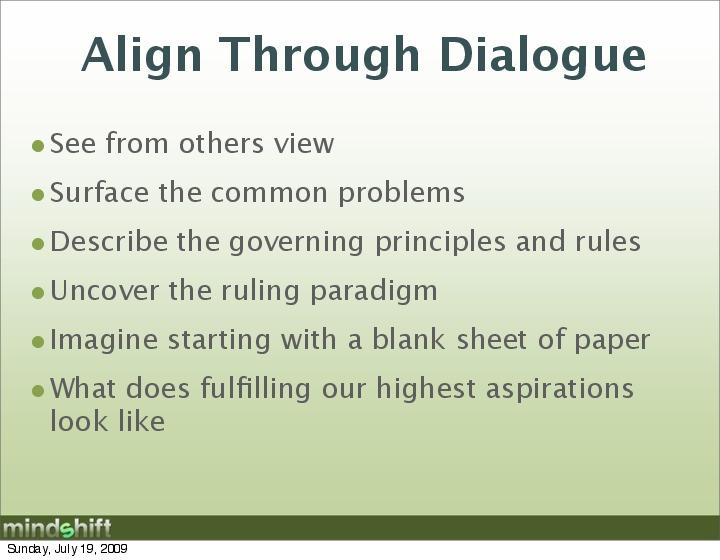paragraph: (23, 121, 680, 450)
title: (72, 22, 661, 97)
